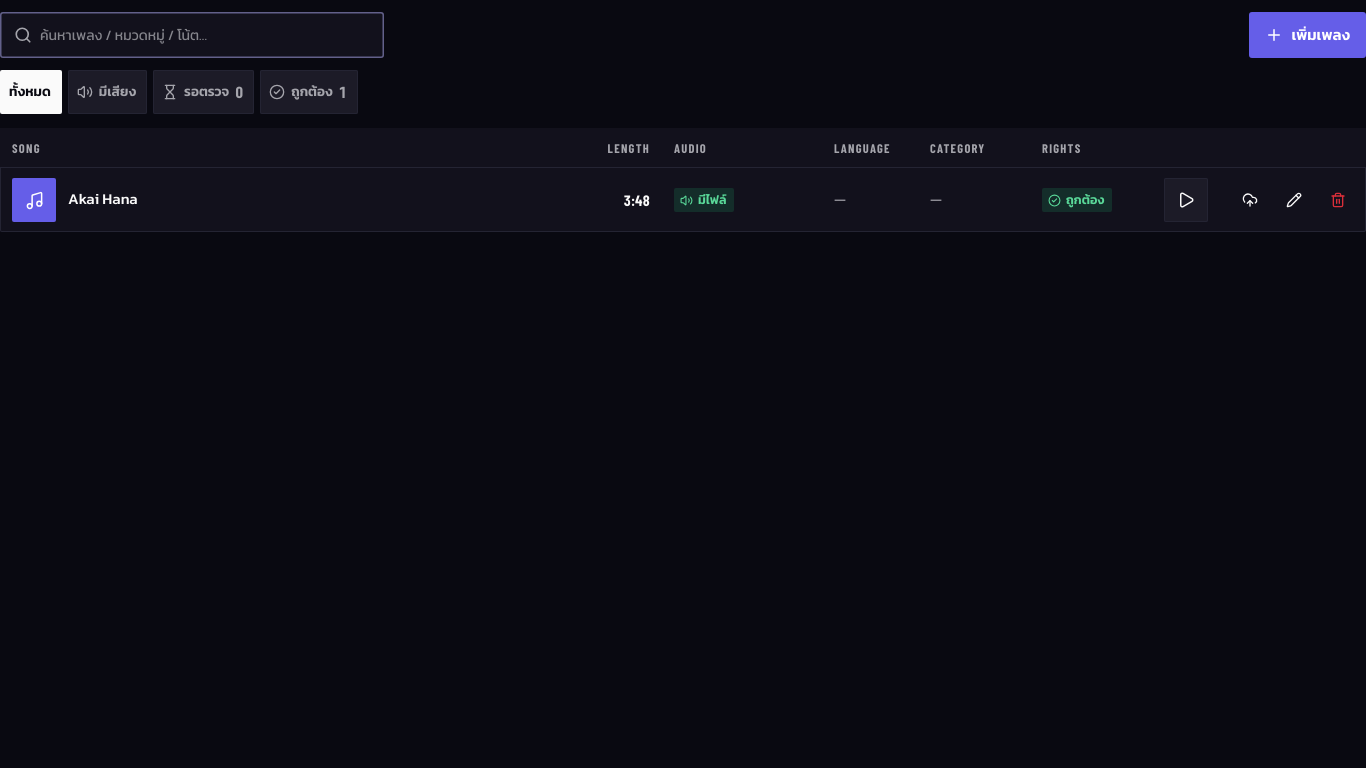
SongLibrary — Black Stage layout › on the table the title opens the same sheet, and the row's actions are upload, edit, delete
This screenshot has width=1366, height=768.
Expected: the button named "เปลี่ยนไฟล์เสียง Akai Hana" is shown, [1228,178,1272,222]
Expected: the button named "แก้ไขเพลง Akai Hana" is shown, [1272,178,1316,222]
What coordinates should you click on to do the following:
click the button "Akai Hana"
I would click on:
 (103, 199)
Its box is [68,190,138,209].
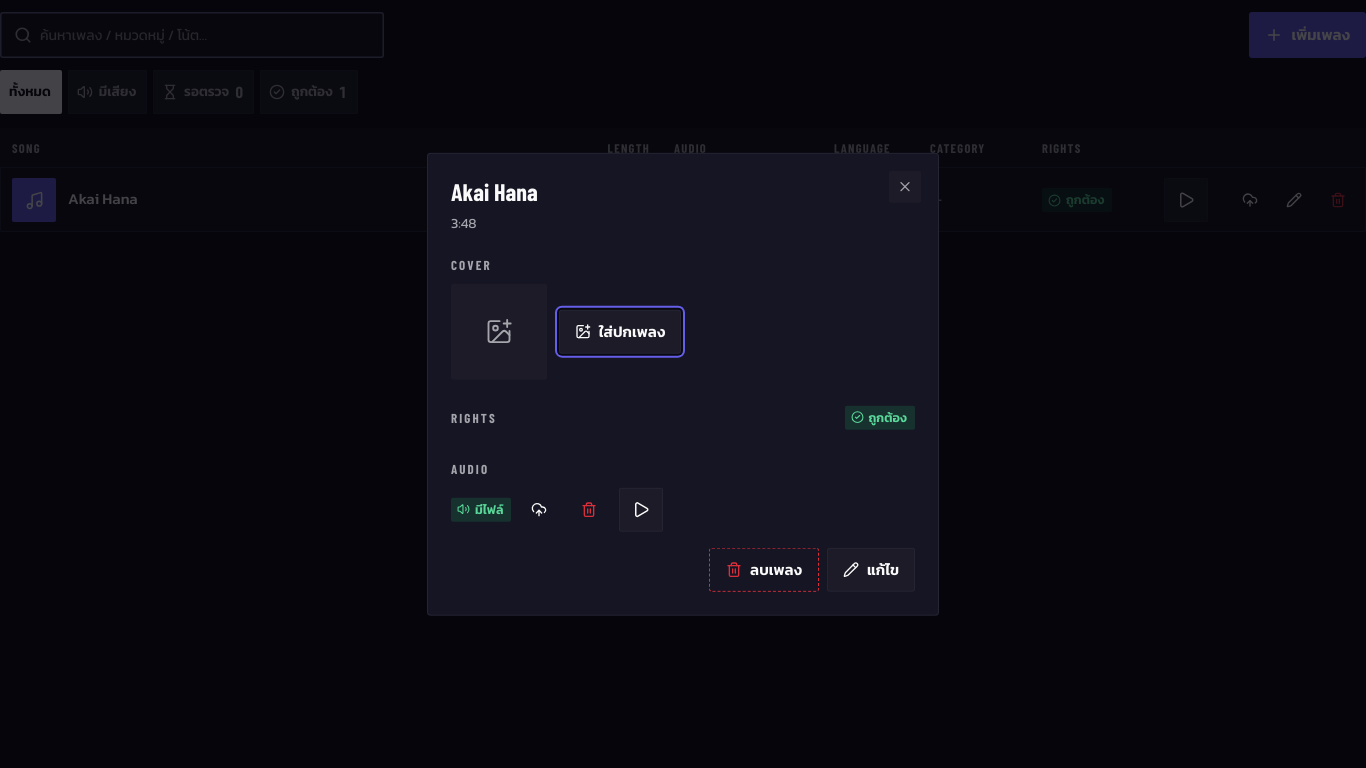
Now the heading "Akai Hana" is shown, box [451,177,538,206]
